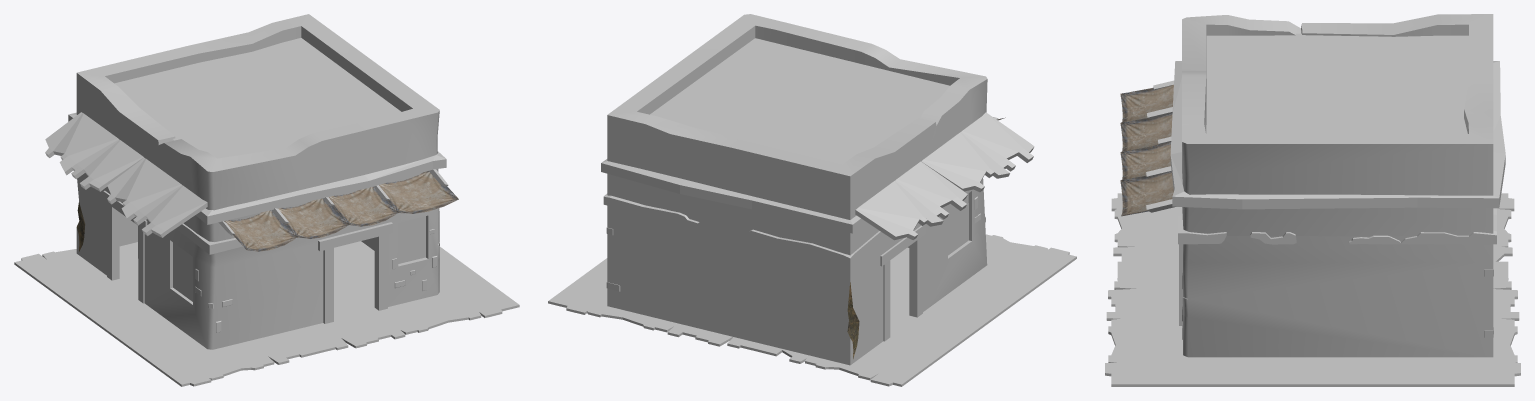
File: ManChengJianZhu03.FBX
The picture shows the model from 3 angles, left to right: view 1: azimuth 30°, elevation 25°; view 2: azimuth 150°, elevation 25°; view 3: azimuth 270°, elevation 25°; orthographic projection. The views are drawn at different scales.
Parts seen in each view (by area): view 1: ManChengJianZhu03_wuding, ManChengJianZhu03_dimian, ManChengJianZhu03_wall, ManChengJianZhu03_wuding01, ManChengJianZhu03_wujian04, ManChengJianZhu03_bu, ManChengJianZhu03_men, ManChengJianZhu03_wujian02, ManChengJianZhu03_wujian01, ManChengJianZhu03_wujian03; view 2: ManChengJianZhu03_wuding, ManChengJianZhu03_wall, ManChengJianZhu03_wuding01, ManChengJianZhu03_dimian, ManChengJianZhu03_wujian04, ManChengJianZhu03_wujian02, ManChengJianZhu03_wujian01, ManChengJianZhu03_men, ManChengJianZhu03_posun; view 3: ManChengJianZhu03_wuding, ManChengJianZhu03_wall, ManChengJianZhu03_wuding01, ManChengJianZhu03_dimian, ManChengJianZhu03_wujian02, ManChengJianZhu03_bu, ManChengJianZhu03_wujian01, ManChengJianZhu03_wujian03.
Part boxes in pixels (x1,y1,x2,y2): ManChengJianZhu03_wuding: [76, 14, 439, 241]; ManChengJianZhu03_dimian: [14, 216, 519, 386]; ManChengJianZhu03_wall: [76, 173, 439, 349]; ManChengJianZhu03_wuding01: [114, 38, 401, 158]; ManChengJianZhu03_wujian04: [45, 112, 207, 237]; ManChengJianZhu03_bu: [224, 171, 458, 251]; ManChengJianZhu03_men: [103, 190, 393, 323]; ManChengJianZhu03_wujian02: [68, 112, 446, 224]; ManChengJianZhu03_wujian01: [176, 223, 242, 254]; ManChengJianZhu03_wujian03: [218, 169, 448, 235]; ManChengJianZhu03_wuding: [607, 14, 987, 255]; ManChengJianZhu03_wall: [606, 178, 987, 365]; ManChengJianZhu03_wuding01: [650, 38, 949, 164]; ManChengJianZhu03_dimian: [548, 193, 1076, 386]; ManChengJianZhu03_wujian04: [855, 112, 1034, 240]; ManChengJianZhu03_wujian02: [601, 117, 998, 233]; ManChengJianZhu03_wujian01: [603, 193, 886, 264]; ManChengJianZhu03_men: [880, 224, 926, 341]; ManChengJianZhu03_posun: [847, 282, 859, 359]; ManChengJianZhu03_wuding: [1182, 14, 1493, 236]; ManChengJianZhu03_wall: [1182, 107, 1493, 357]; ManChengJianZhu03_wuding01: [1206, 33, 1468, 133]; ManChengJianZhu03_dimian: [1105, 193, 1520, 386]; ManChengJianZhu03_wujian02: [1170, 61, 1505, 209]; ManChengJianZhu03_bu: [1120, 84, 1173, 216]; ManChengJianZhu03_wujian01: [1178, 207, 1496, 244]; ManChengJianZhu03_wujian03: [1146, 80, 1175, 212].
Bounding box in the file's own units: 542 × 292 × 499.
